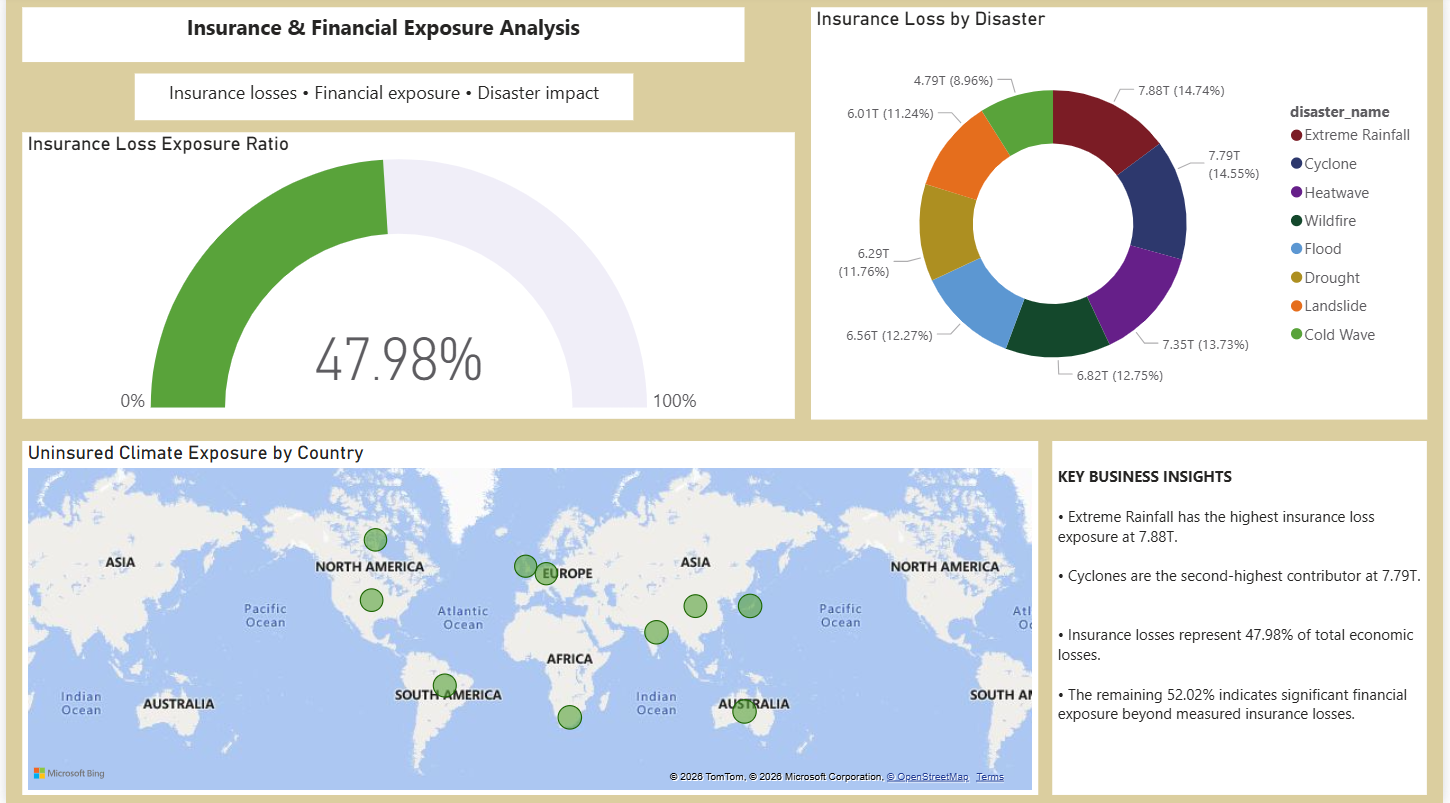

Layout of this report page (visuals, bound fields, positions):
{"tool":"powerbi","page":{"name":"Insurance & Financial Exposure","canvas":[1280,720],"ordinal":2},"visuals":[{"type":"donutChart","title":"Insurance Loss by Disaster","fields":{"Category":["dim_disaster.disaster_name"],"Y":["fact_climate_events_messy.Total Economic Loss"]},"box":[716.6,9.8,548.5,366.9],"z":0},{"type":"gauge","title":"Insurance Loss Exposure Ratio","fields":{"Y":["fact_climate_events_messy.Insurance Coverage %"]},"box":[14.7,121.5,688.3,255.2],"z":1000},{"type":"map","title":"Uninsured Climate Exposure by Country","fields":{"Category":["dim_country.country_name"],"Size":["fact_climate_events_messy.Uninsured Exposure"]},"box":[14.7,396.3,904.3,315.3],"z":2000},{"type":"textbox","box":[14.7,9.8,642.9,49.1],"z":3000},{"type":"textbox","box":[114.1,68.7,444.2,41.7],"z":4000},{"type":"textbox","box":[931.3,396.3,333.7,315.3],"z":5000}]}

Visuals, with their boxes in screenshot pixels (x1, y1, x2, y2), scaled from the page's 1280x720 canvas onto the 1450x803 screenshot:
"Insurance Loss by Disaster" donutChart: crop(812, 11, 1433, 420)
"Insurance Loss Exposure Ratio" gauge: crop(17, 136, 796, 420)
"Uninsured Climate Exposure by Country" map: crop(17, 442, 1041, 794)
textbox: crop(17, 11, 745, 66)
textbox: crop(129, 77, 632, 123)
textbox: crop(1055, 442, 1433, 794)
